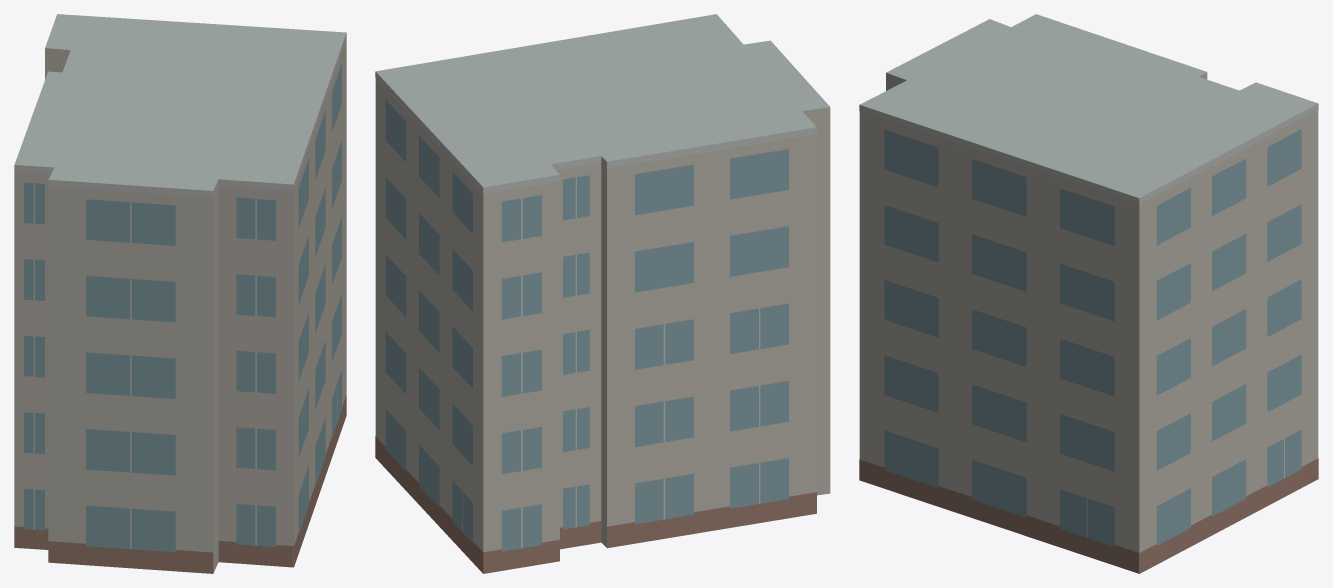
Rendered from survey-upis-32669924.glb.
The picture shows the model from 3 angles, left to right: view 1: azimuth 30°, elevation 25°; view 2: azimuth 150°, elevation 25°; view 3: azimuth 270°, elevation 25°; orthographic projection. The views are drawn at different scales.
Visible parts, largest first — view 1: survey-upis-32669924.tmp; view 2: survey-upis-32669924.tmp; view 3: survey-upis-32669924.tmp.
Part boxes in pixels (<box>): survey-upis-32669924.tmp: <box>14,14,346,573</box>; survey-upis-32669924.tmp: <box>375,14,830,573</box>; survey-upis-32669924.tmp: <box>859,14,1318,573</box>.
Bounding box in the file's own units: 14.79 × 14.05 × 15.57.
